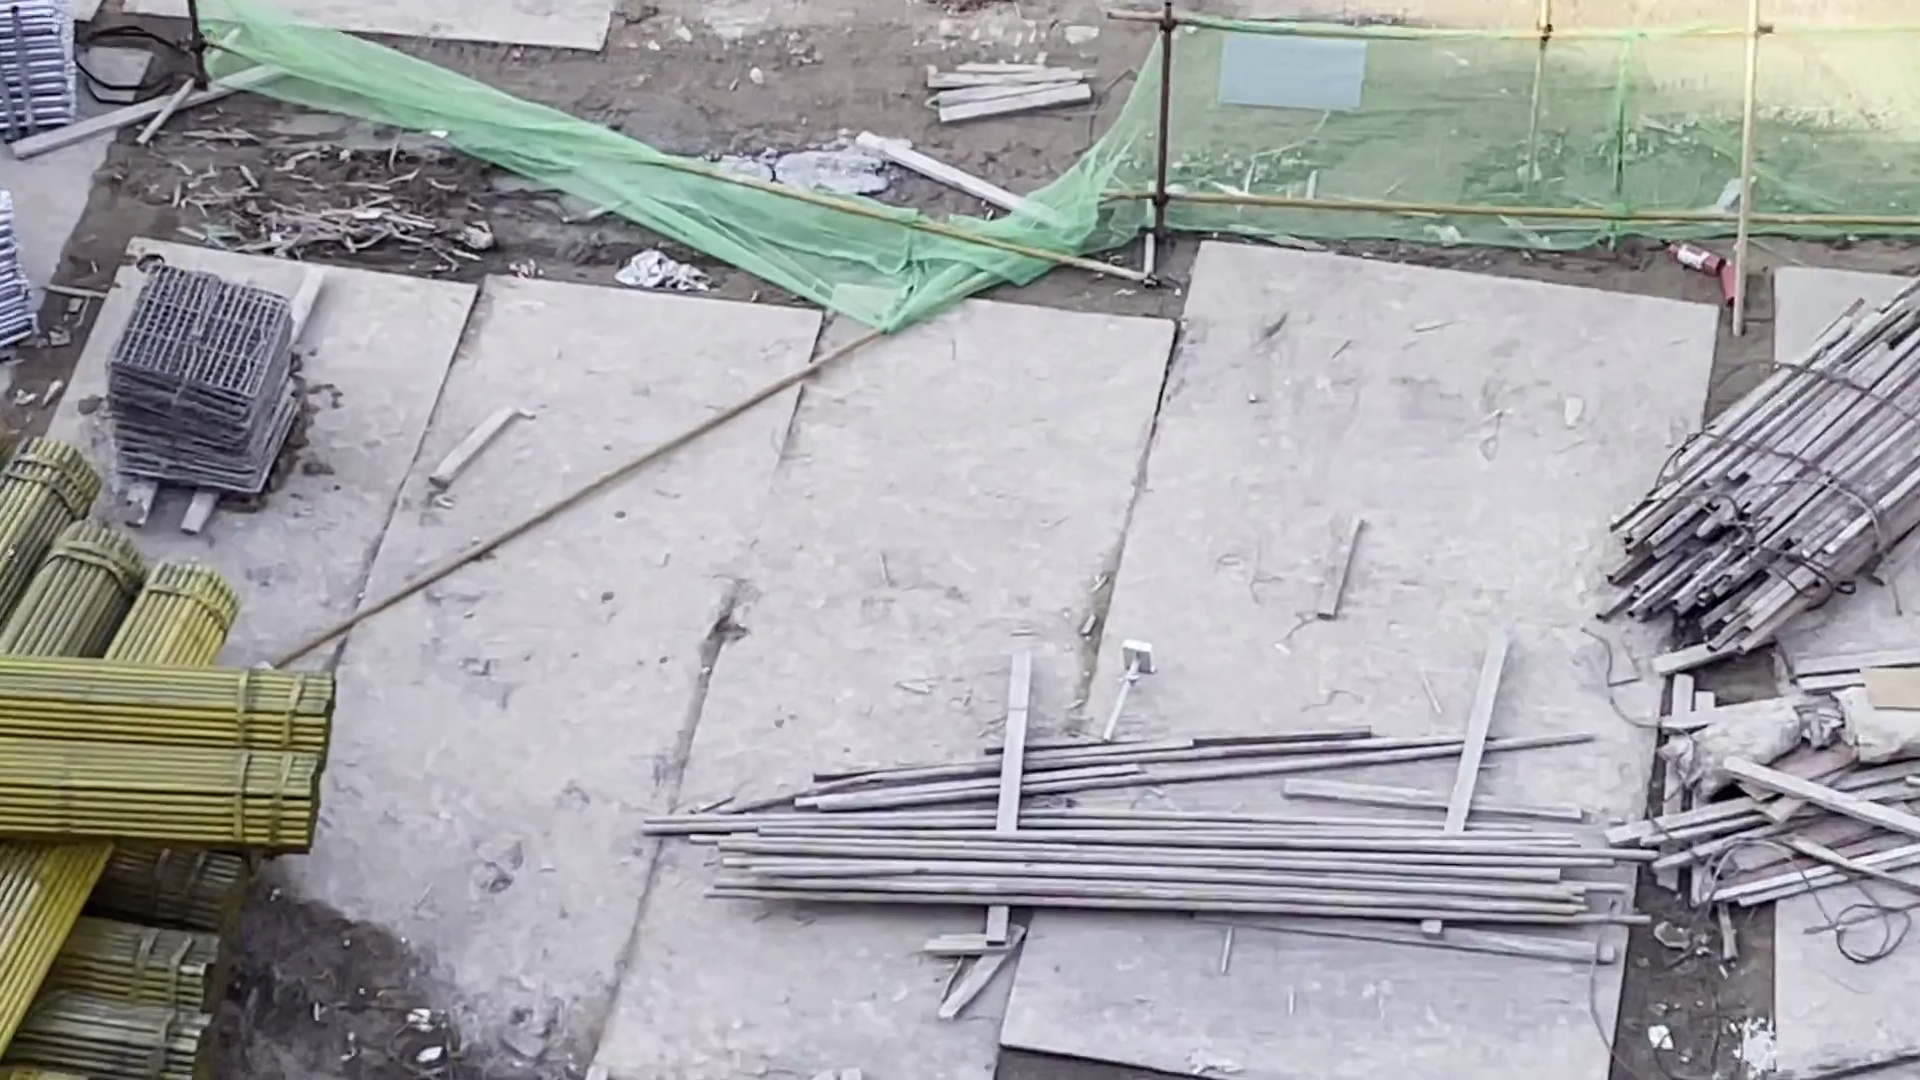scaffold: (1, 7, 95, 138), (1, 171, 51, 356)
